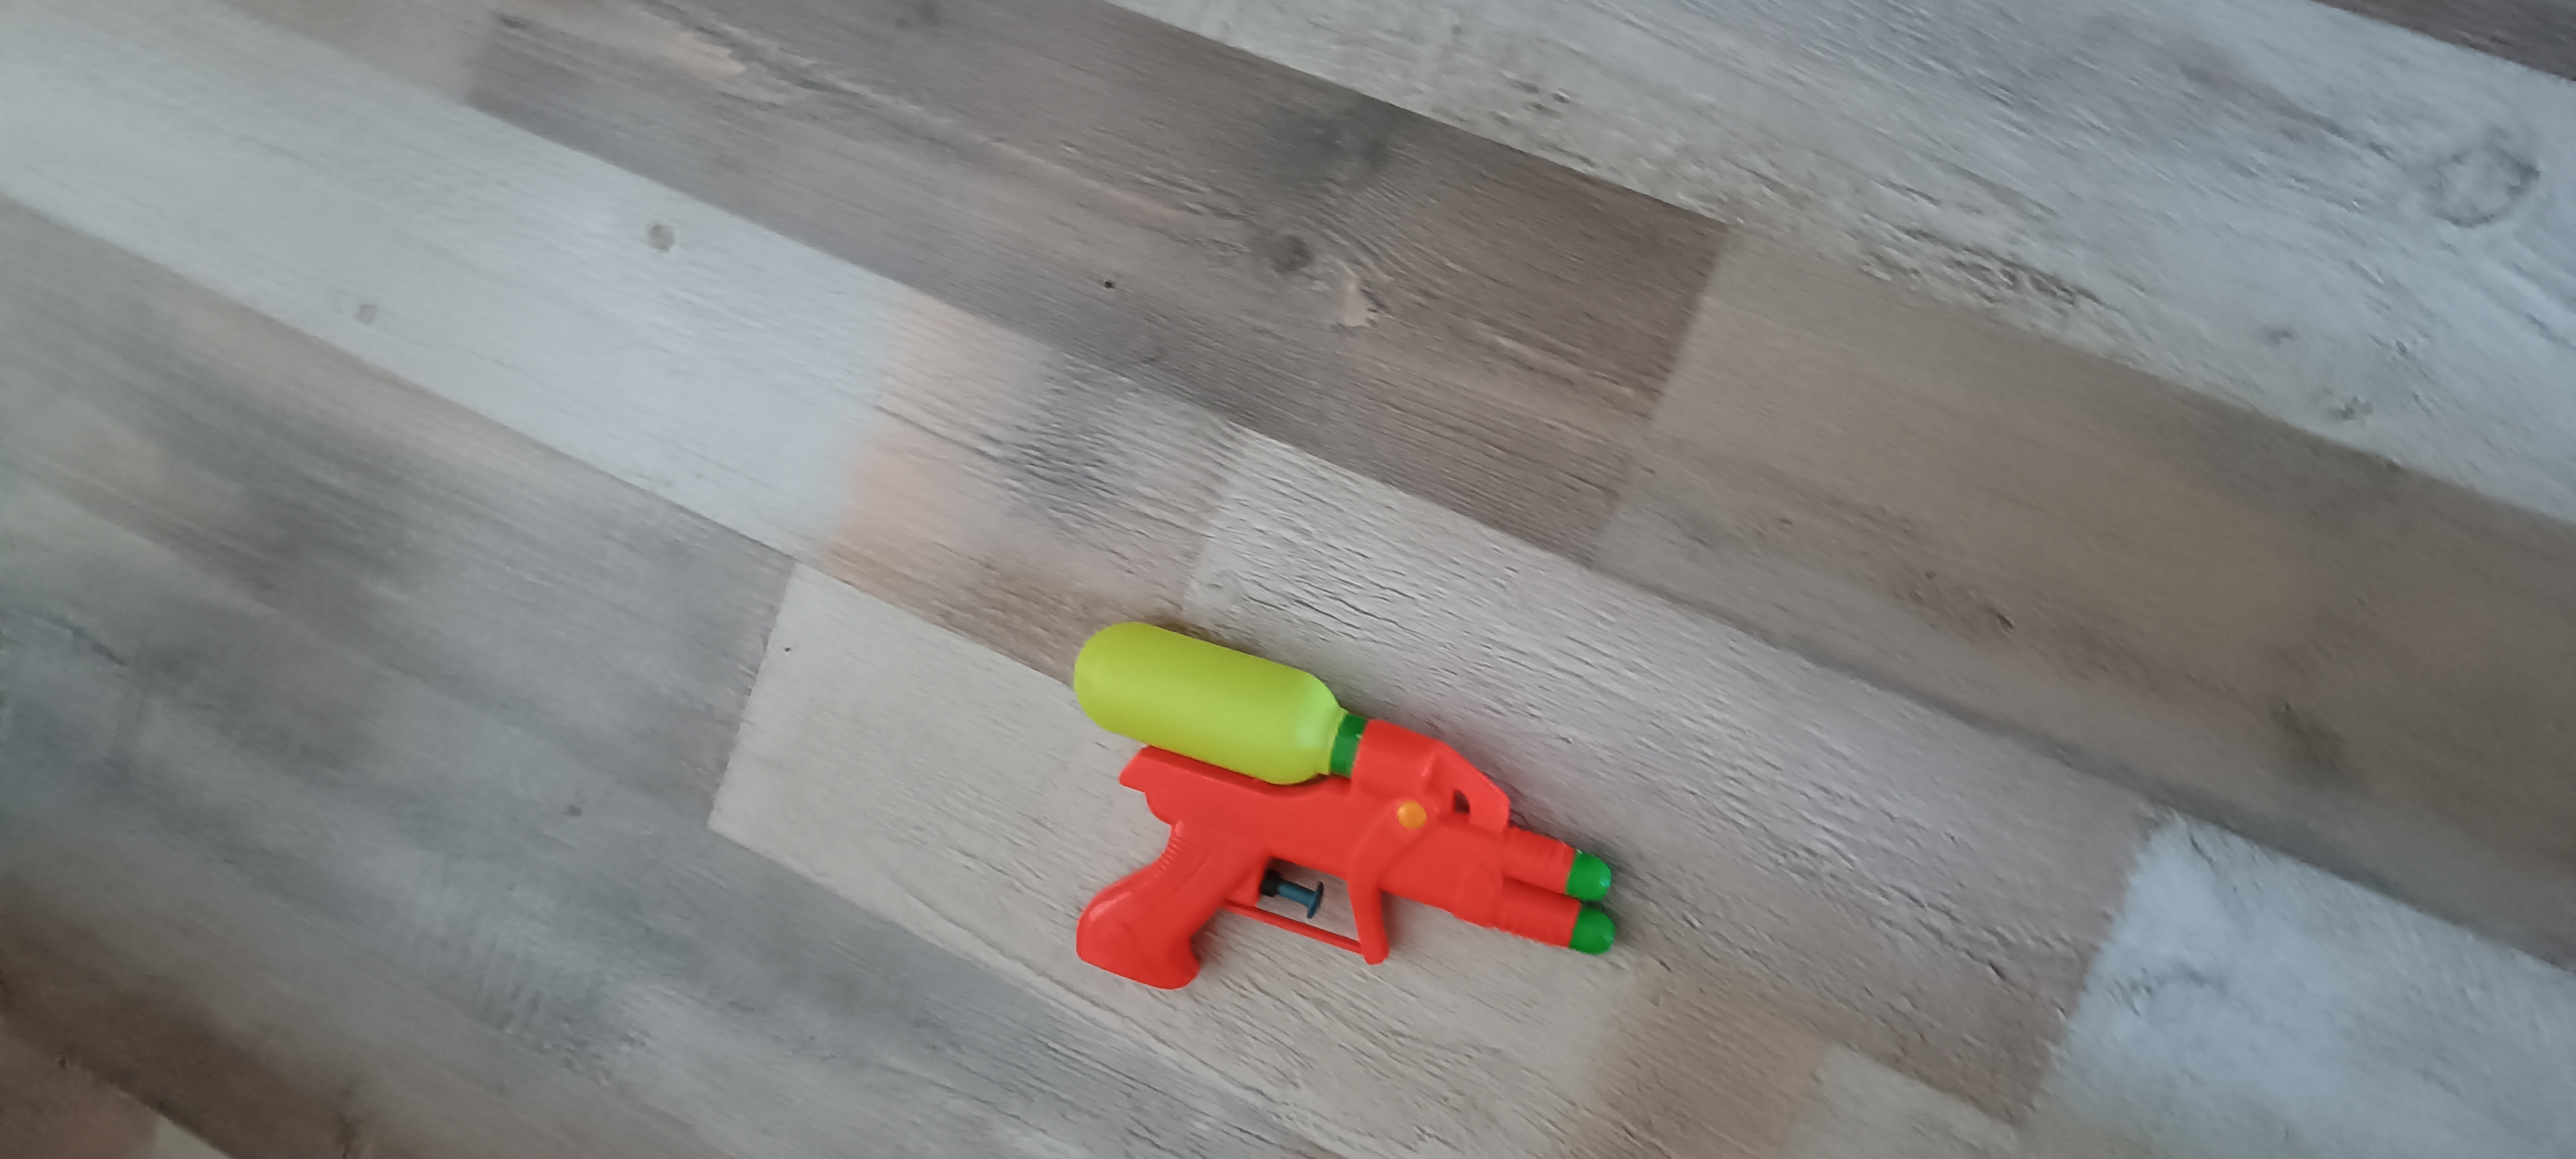Water Gun: (1073, 621, 1618, 990)
